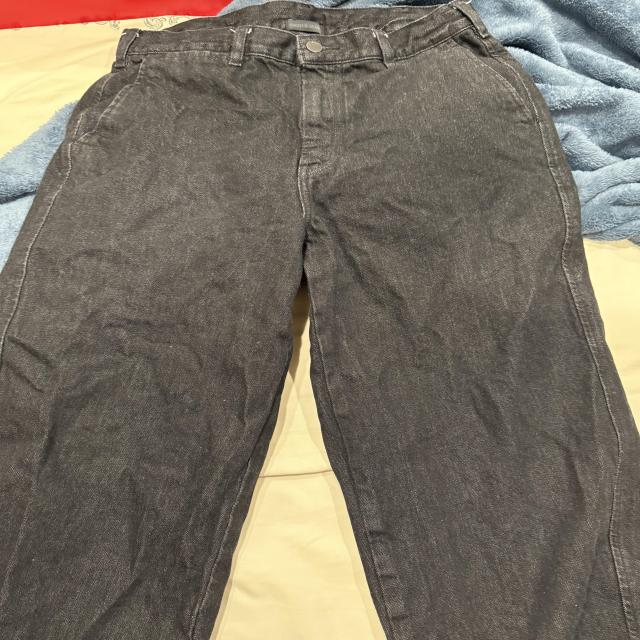back_tag: (282, 14, 325, 36)
